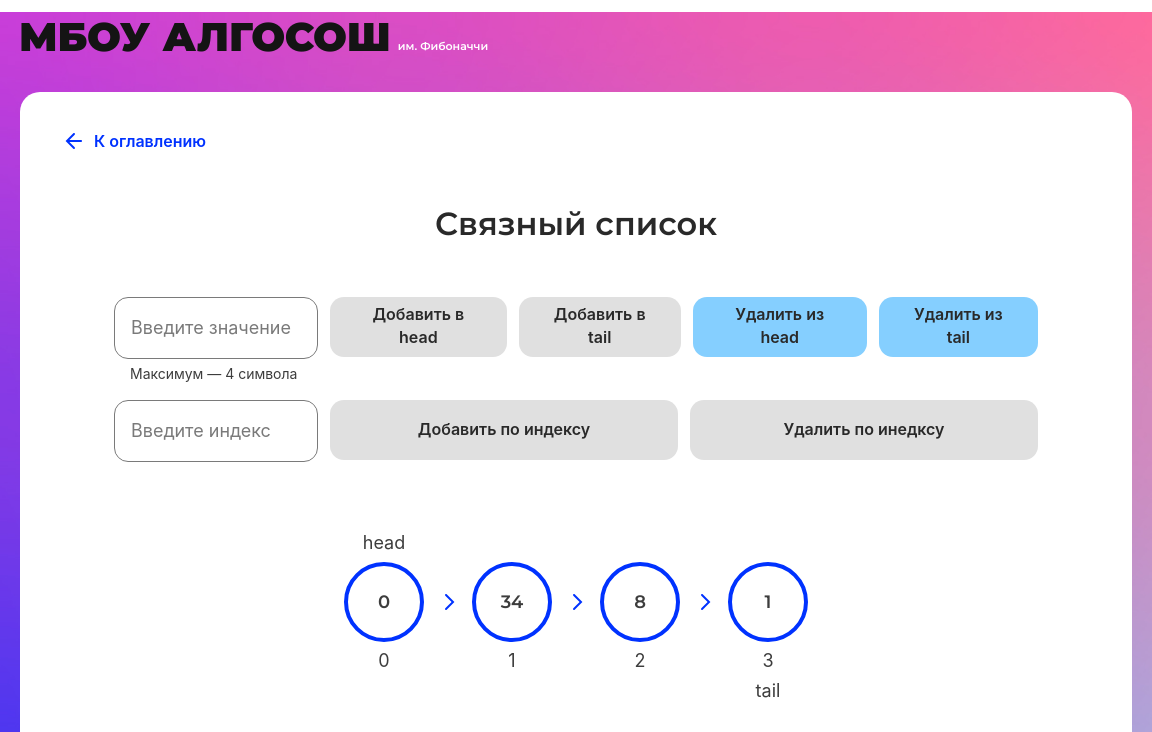
Test: list tests › delete from head
Expected: the number of elements with test id "circle_state" is 4, [344,562,424,642]; [472,562,552,642]; [600,562,680,642]; [728,562,808,642]
Click the button with test id "list_delete_head". click: (780, 327)
box: [693,297,867,357]
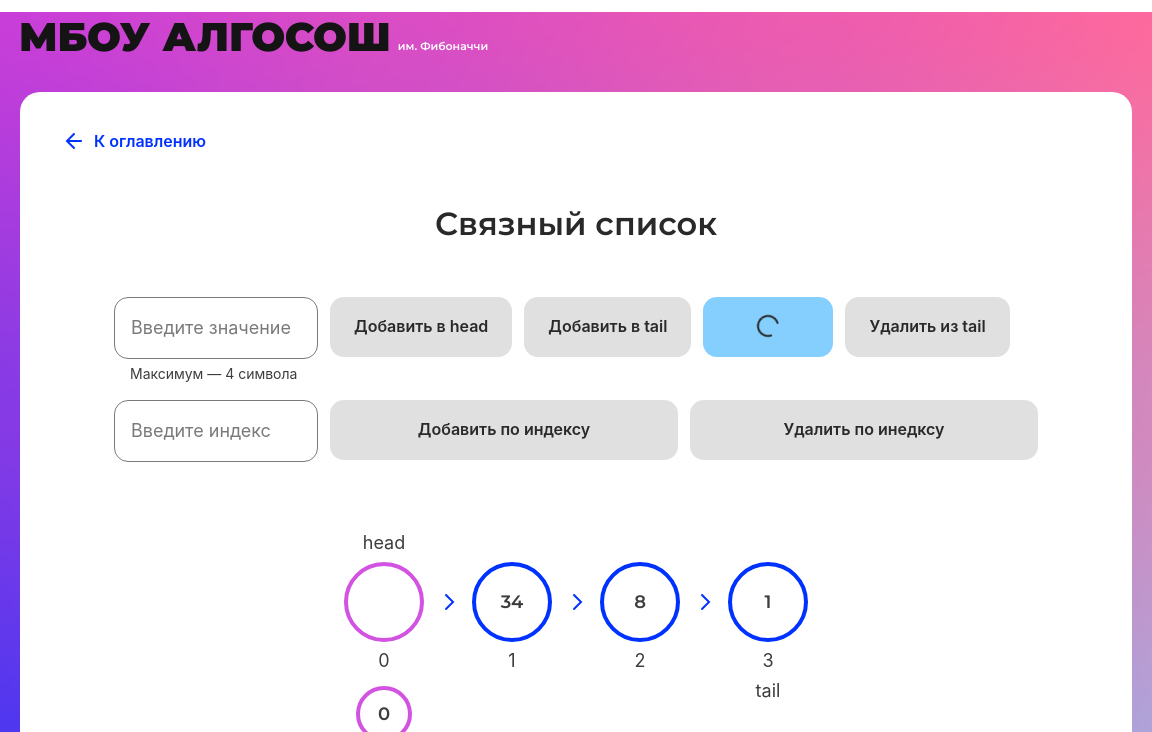
Expected: the element with test id "circle_small" is shown, [356,686,412,731]
Expected: the element with test id "circle_state" next to "34" has style "border-color"="rgb(210, 82, 225)", [344,562,424,642]
Wait "500"
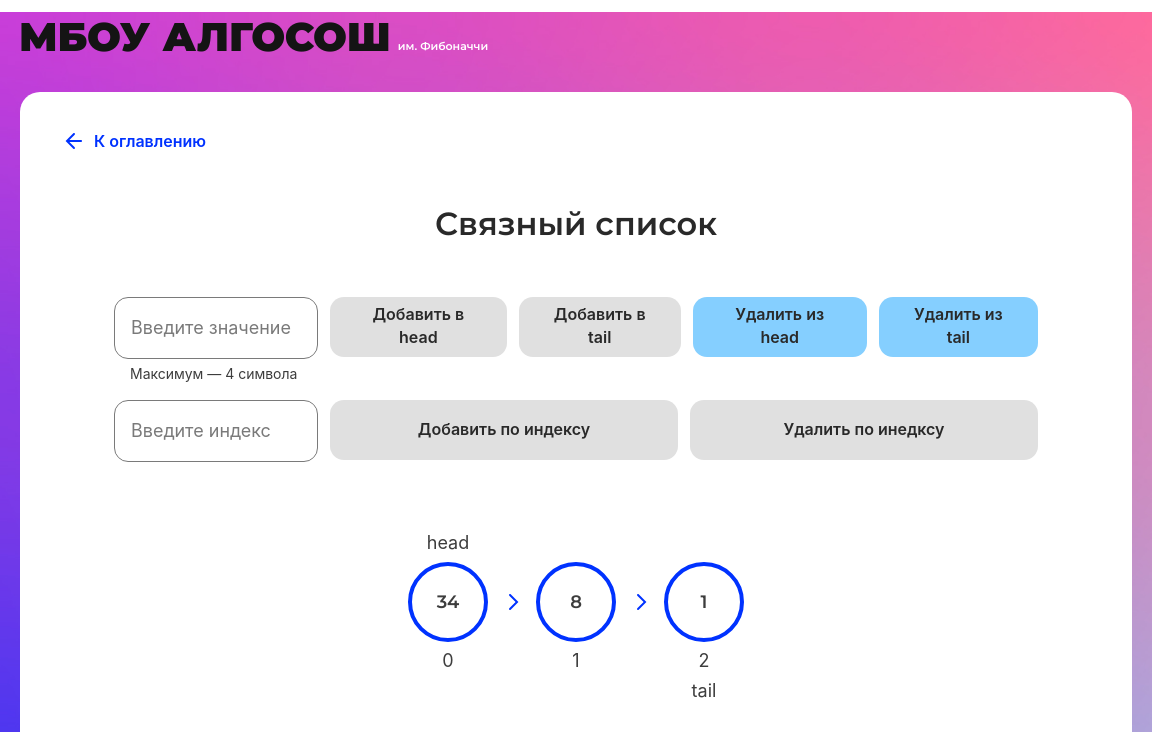
Expected: the text "head" is shown, [427,532,469,554]
Expected: the text "34" is shown, [437,591,459,613]
Expected: the number of elements with test id "circle_state" is 3, [408,562,488,642]; [536,562,616,642]; [664,562,744,642]
